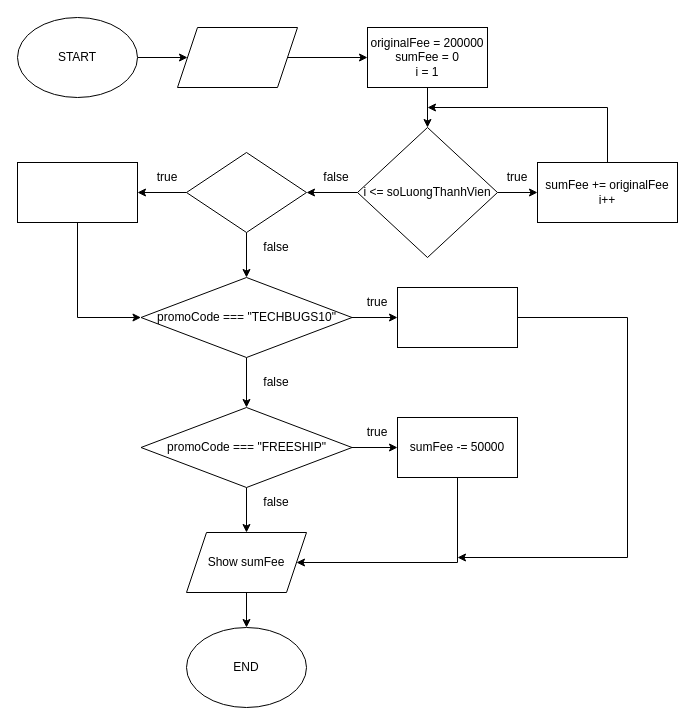
Some shapes in this 695 by 725 pixel diagram are drawn without their labels. The shapes that lost their labels are listed below. From the top down, each one's centre as x and y in pixels, then its label:
At point 237,57: "numMembers = ? isEarlyBird = ? promoCode = ?".
At point 77,192: "sumFee *= 0.8".
At point 246,192: "isEarlyBird === true".
At point 457,317: "sumFee *= 0.9".
